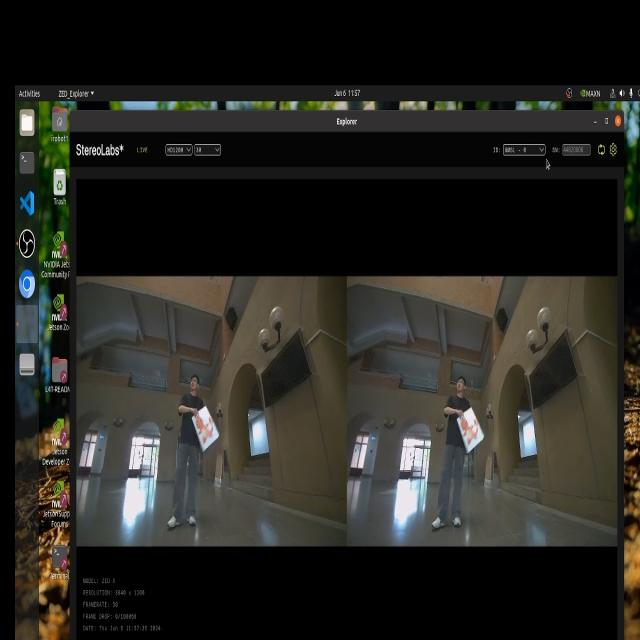red: (461, 410, 481, 450), (195, 410, 211, 445)
